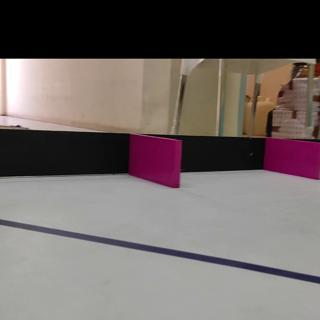xparking: (133, 139, 180, 186), (271, 145, 320, 180)
